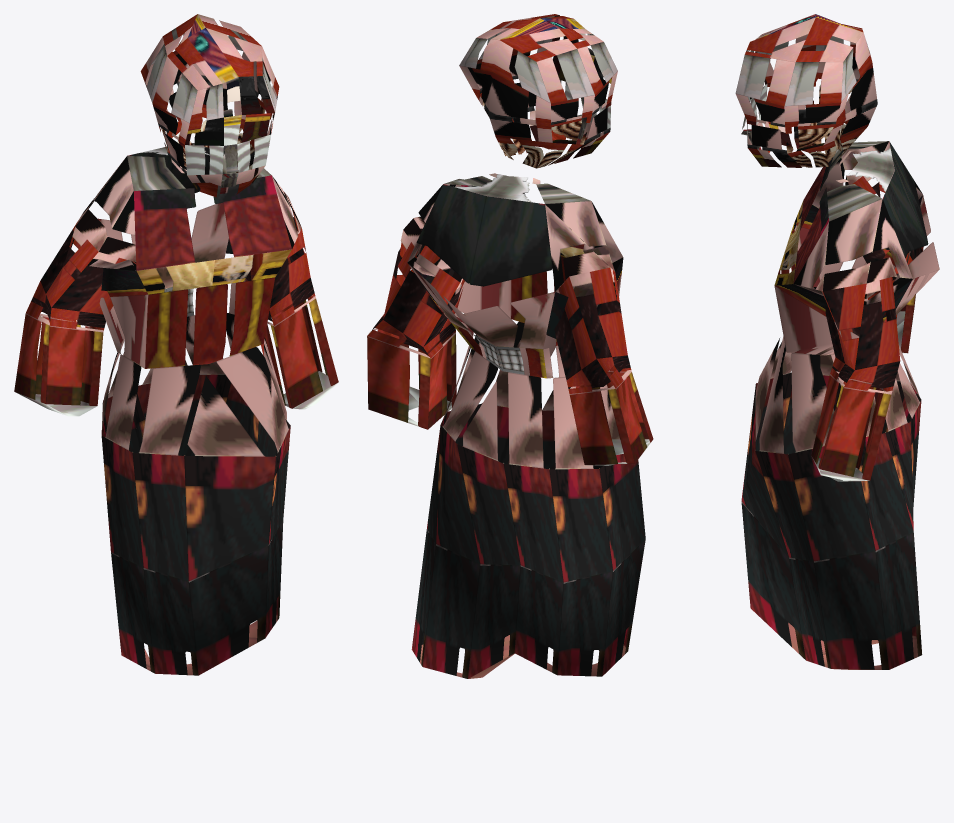
3 views of the same model, side by side, from view 1: azimuth 30°, elevation 25°; view 2: azimuth 150°, elevation 25°; view 3: azimuth 270°, elevation 25° (orthographic). The views are drawn at different scales.
Visible parts, largest first — view 1: T1L7M001_9; view 2: T1L7M001_9; view 3: T1L7M001_9.
Part boxes in pixels (left/top/right/bottom): T1L7M001_9: left=14, top=14, right=338, bottom=675; T1L7M001_9: left=367, top=14, right=653, bottom=678; T1L7M001_9: left=735, top=14, right=939, bottom=669.
Bounding box in the file's own units: 0.6205 × 1.54 × 0.4626.
